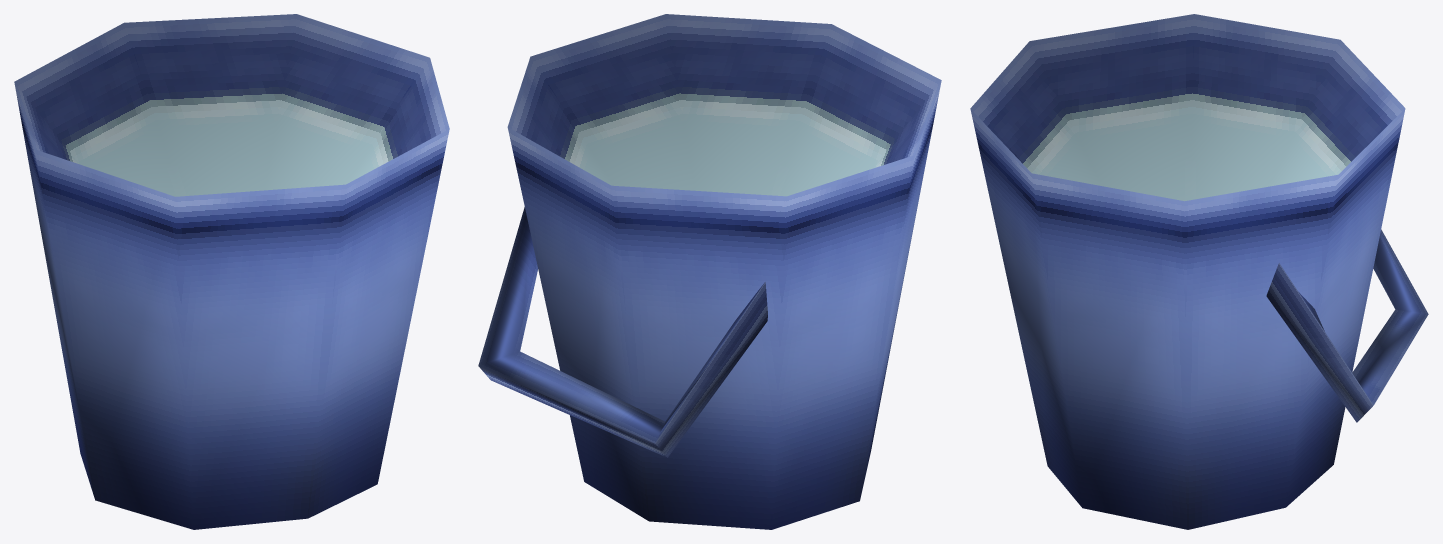
File: a_SCbucket01.glb
The picture shows the model from 3 angles, left to right: view 1: azimuth 30°, elevation 25°; view 2: azimuth 150°, elevation 25°; view 3: azimuth 270°, elevation 25°; orthographic projection.
Parts seen in each view (by area): view 1: a_SCbucket01; view 2: a_SCbucket01; view 3: a_SCbucket01.
Part boxes in pixels (x1,y1,x2,y2): a_SCbucket01: (14, 14, 449, 529); a_SCbucket01: (478, 14, 941, 529); a_SCbucket01: (970, 14, 1428, 529).
Bounding box in the file's own units: 0.3598 × 0.32 × 0.3722.
1 material, 1 textured.
